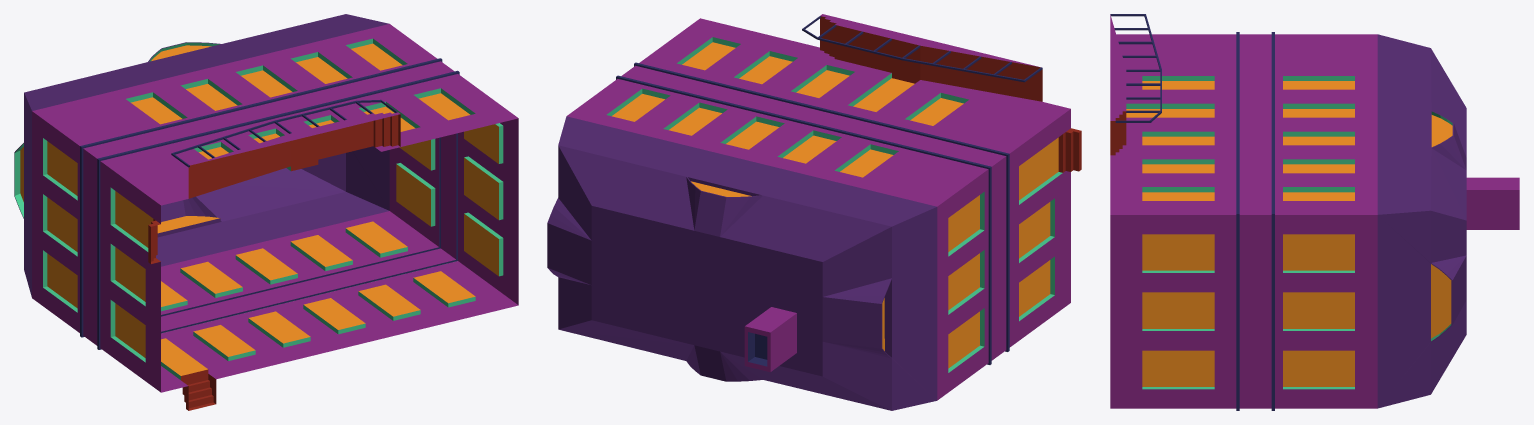
File: Dom StaroscinskiV2.fbx
3 views of the same model, side by side, from view 1: azimuth 30°, elevation 25°; view 2: azimuth 150°, elevation 25°; view 3: azimuth 270°, elevation 25° (orthographic). The views are drawn at different scales.
Parts seen in each view (by area): view 1: Dom_Starościński; view 2: Dom_Starościński; view 3: Dom_Starościński.
Part boxes in pixels (x1,y1,x2,y2): Dom_Starościński: (14,14,518,410); Dom_Starościński: (547,14,1081,410); Dom_Starościński: (1110,14,1519,410).
Bounding box in the file's own units: 3.67 × 2.33 × 3.41.
